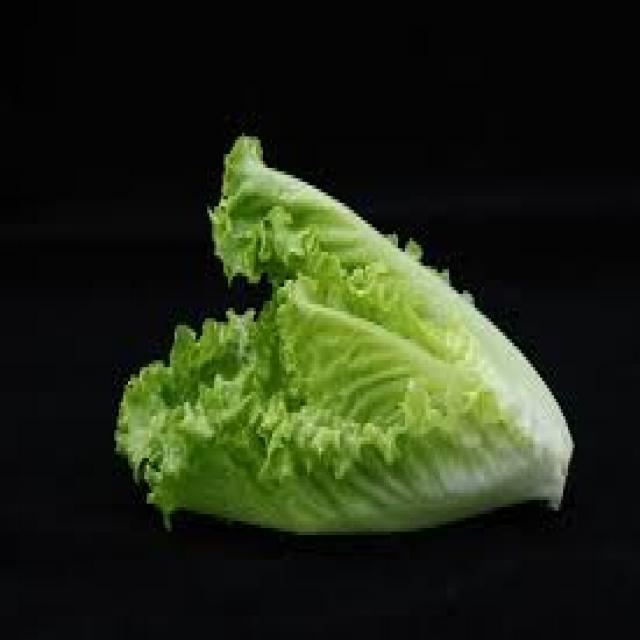Lettuce: (124, 143, 578, 532)
